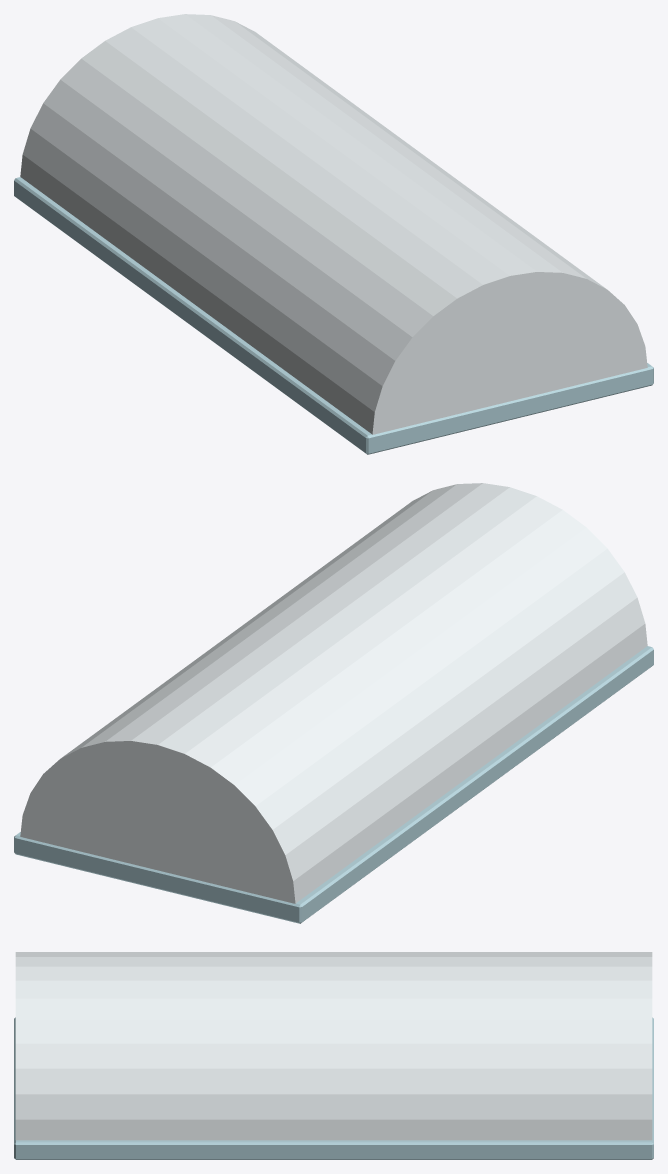
3 views of the same model, one above another, from view 1: azimuth 30°, elevation 25°; view 2: azimuth 150°, elevation 25°; view 3: azimuth 270°, elevation 25° (orthographic). The views are drawn at different scales.
Parts seen in each view (by area): view 1: winter-snowbank-01; view 2: winter-snowbank-01; view 3: winter-snowbank-01.
Boxes of the visible parts, x1,y1,x2,y2 form: winter-snowbank-01: [14, 14, 653, 454]; winter-snowbank-01: [14, 483, 653, 923]; winter-snowbank-01: [14, 952, 653, 1159].
Size of the model in its own units: 0.94 by 0.45 by 2.
